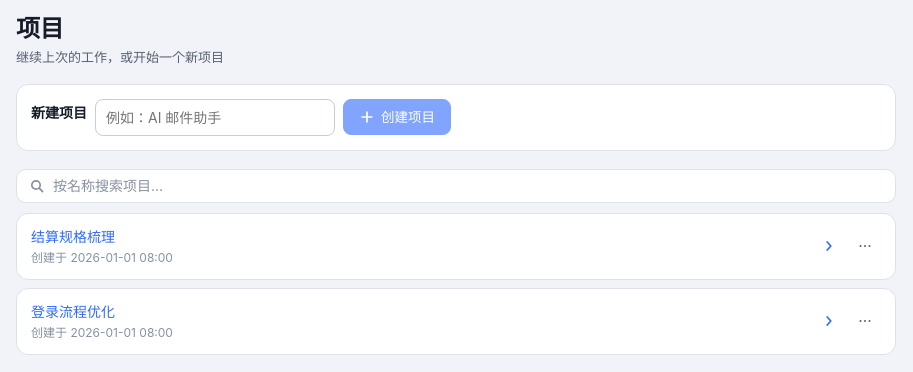
Test: ProjectsView › asks the backend to filter by title and shows the matched subset
This screenshot has width=913, height=372.
Type "结算" into the field with test id "project-search".
click(454, 186); type("结算")  # box [53,168,855,202]
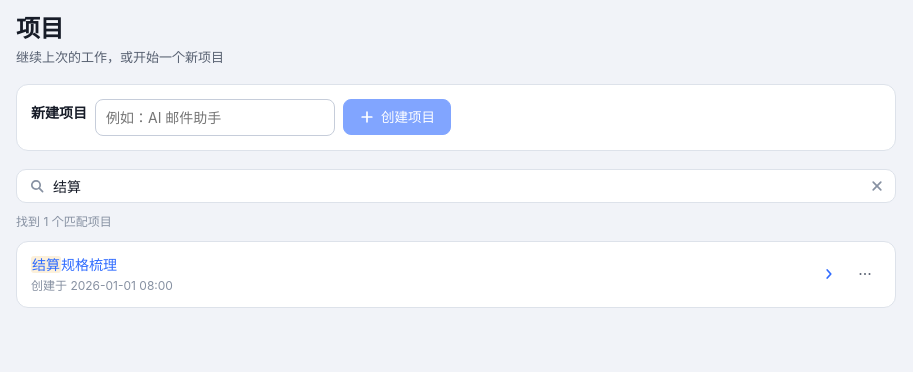
Check: the text "登录流程优化" is gone
